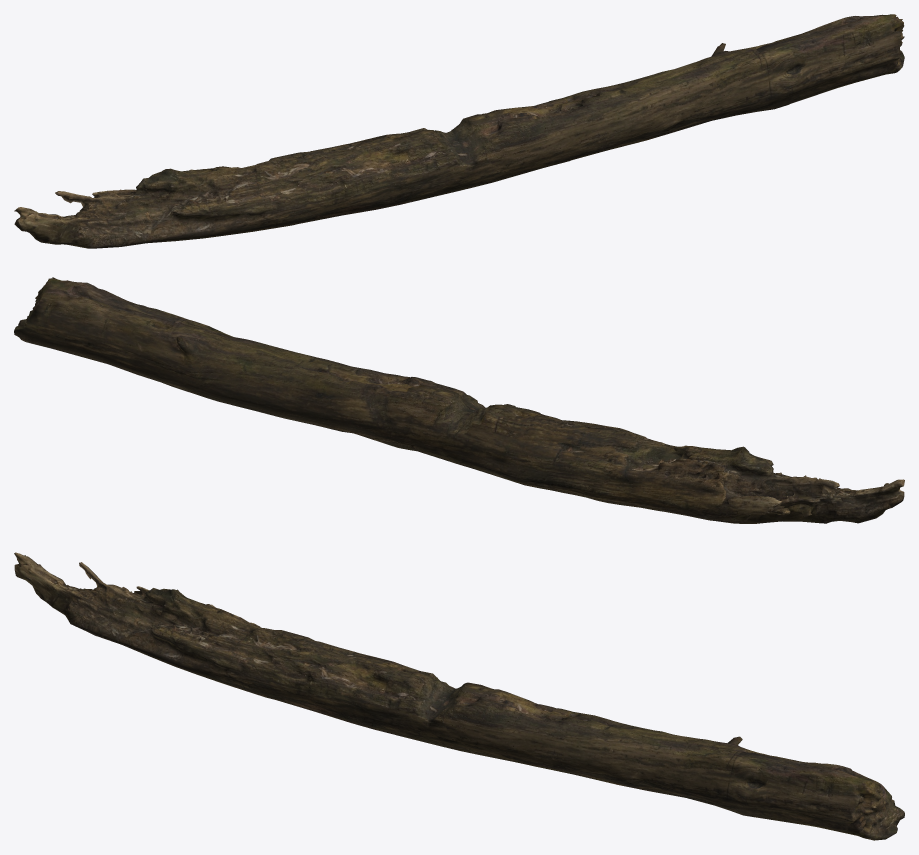
Rendered from dead_tree_trunk.glb.
3 renders of one model, top to bottom at view 1: azimuth 30°, elevation 25°; view 2: azimuth 150°, elevation 25°; view 3: azimuth 330°, elevation 25°, orthographic.
Size of the model in its own units: 3.05 by 0.29 by 0.2775.
Materials: 1 (1 with a texture image).
